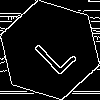L: (25, 25, 78, 77)
